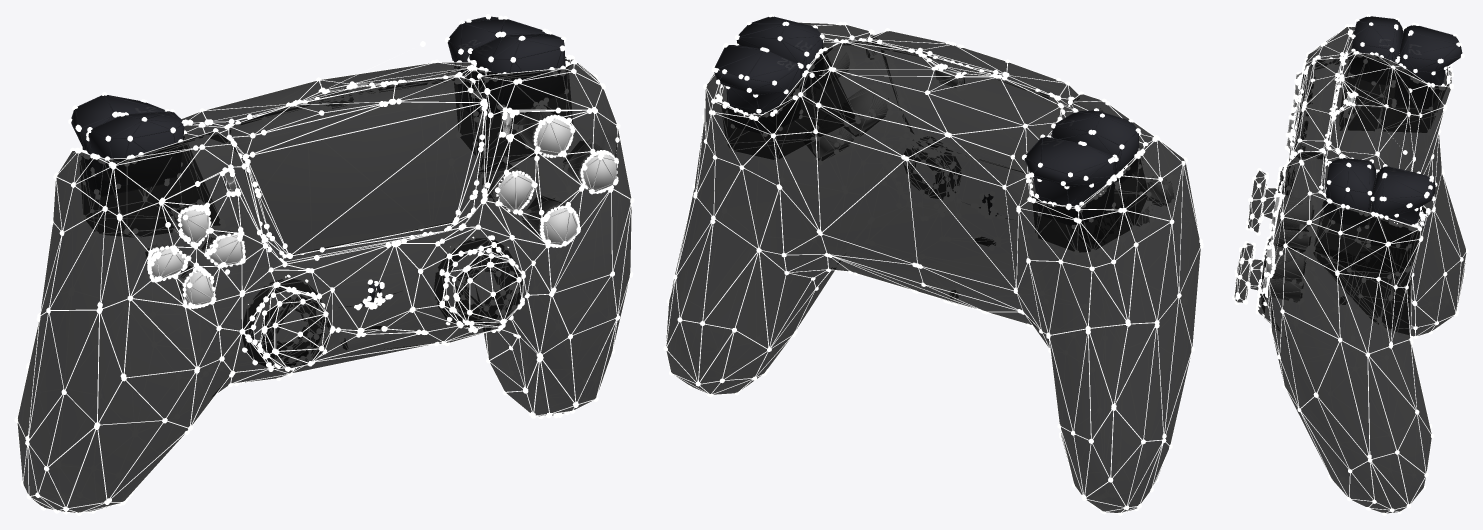
Rendered from gamepad1.glb.
3 renders of one model, left to right at view 1: azimuth 30°, elevation 25°; view 2: azimuth 150°, elevation 25°; view 3: azimuth 270°, elevation 25°, orthographic. The views are drawn at different scales.
Visible parts, largest first — view 1: mainTR.002_2, mainTR_1, mainTR.001_0; view 2: mainTR.002_2, mainTR_1, mainTR.001_0; view 3: mainTR.002_2, mainTR_1, mainTR.001_0.
Boxes of the visible parts, x1,y1,x2,y2 form: mainTR.002_2: [17, 17, 631, 512]; mainTR_1: [17, 16, 632, 513]; mainTR.001_0: [14, 14, 634, 515]; mainTR.002_2: [666, 17, 1200, 512]; mainTR_1: [665, 16, 1201, 513]; mainTR.001_0: [663, 14, 1203, 515]; mainTR.002_2: [1234, 16, 1466, 513]; mainTR_1: [1234, 16, 1466, 513]; mainTR.001_0: [1232, 14, 1468, 515].
Bounding box in the file's own units: 11.17 × 7.85 × 5.07.
3 materials, 1 textured.
